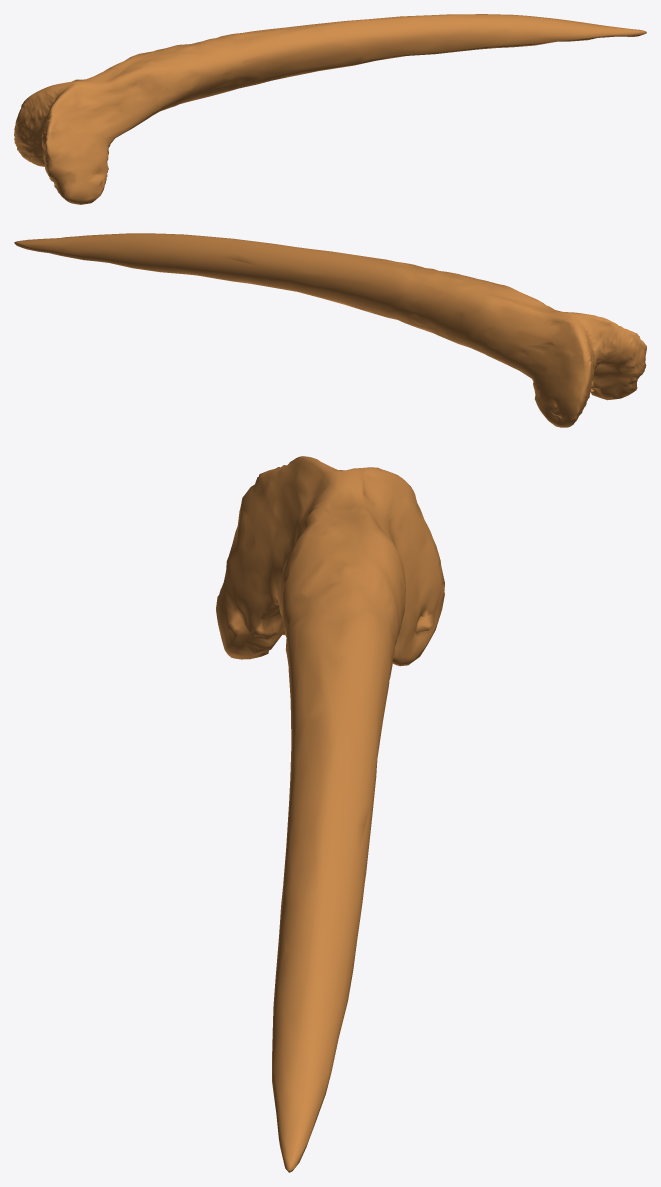
Rendered from dagger.glb.
3 renders of one model, top to bottom at view 1: azimuth 30°, elevation 25°; view 2: azimuth 150°, elevation 25°; view 3: azimuth 270°, elevation 25°, orthographic. The views are drawn at different scales.
Size of the model in its own units: 0.3352 by 0.0552 by 0.0544.
